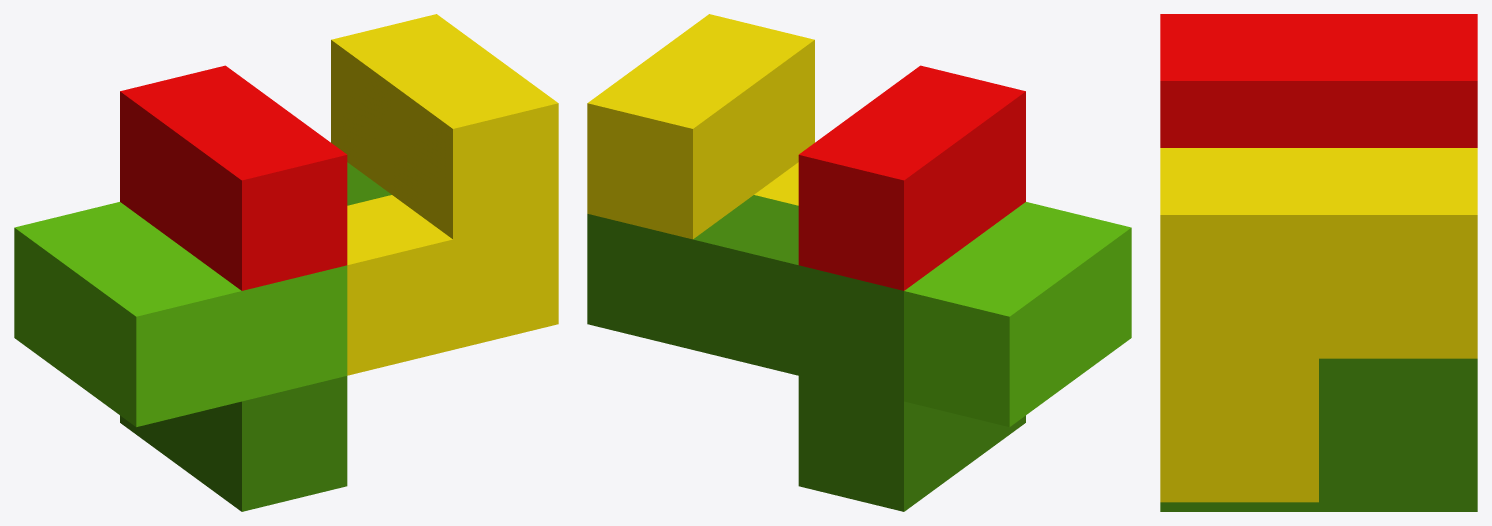
3 renders of one model, left to right at view 1: azimuth 30°, elevation 25°; view 2: azimuth 150°, elevation 25°; view 3: azimuth 270°, elevation 25°, orthographic. The views are drawn at different scales.
Visible parts, largest first — view 1: mergedBlocks(Clone); view 2: mergedBlocks(Clone); view 3: mergedBlocks(Clone).
Part boxes in pixels (x1,y1,x2,y2): mergedBlocks(Clone): [14, 14, 558, 511]; mergedBlocks(Clone): [587, 14, 1131, 511]; mergedBlocks(Clone): [1160, 14, 1477, 511].
Bounding box in the file's own units: 4 × 3 × 2.
Materials: 4 (4 with a texture image).
